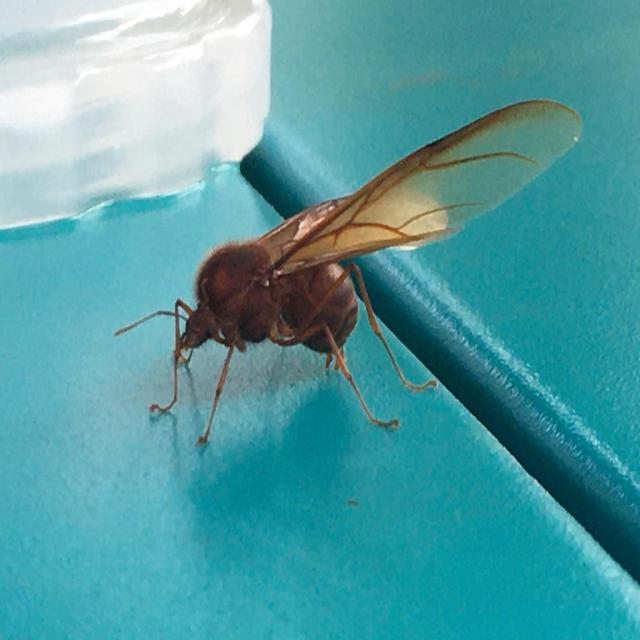Alive-Male-Alate: (112, 99, 583, 448)
